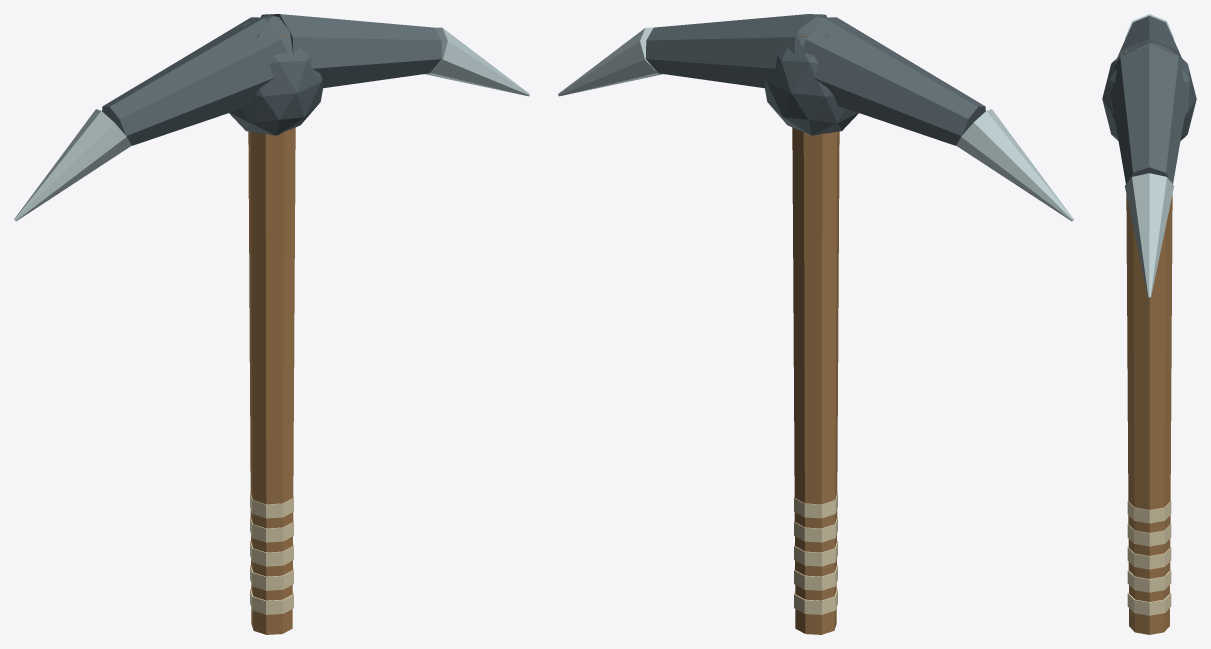
The model's file is resource_pickaxe.glb.
The picture shows the model from 3 angles, left to right: view 1: azimuth 30°, elevation 25°; view 2: azimuth 150°, elevation 25°; view 3: azimuth 270°, elevation 25°; orthographic projection. The views are drawn at different scales.
Visible parts, largest first — view 1: Ash handle, Forged pick, Forged pick.001, Iron socket, Polished pick tip, Polished pick tip.001; view 2: Ash handle, Forged pick, Forged pick.001, Iron socket, Polished pick tip, Polished pick tip.001; view 3: Ash handle, Forged pick.001, Polished pick tip.001, Iron socket, Forged pick, Grip cord, Grip cord.002, Grip cord.001, Grip cord.003, Grip cord.004.
Part boxes in pixels (x1=…): Ash handle: x1=248, y1=35, x2=295, y2=634; Forged pick: x1=102, y1=17, x2=287, y2=145; Forged pick.001: x1=261, y1=14, x2=442, y2=88; Iron socket: x1=229, y1=14, x2=322, y2=135; Polished pick tip: x1=14, y1=109, x2=131, y2=221; Polished pick tip.001: x1=424, y1=27, x2=529, y2=96; Ash handle: x1=792, y1=35, x2=839, y2=634; Forged pick: x1=800, y1=17, x2=985, y2=145; Forged pick.001: x1=645, y1=14, x2=826, y2=88; Iron socket: x1=765, y1=14, x2=858, y2=135; Polished pick tip: x1=956, y1=109, x2=1073, y2=221; Polished pick tip.001: x1=558, y1=27, x2=663, y2=96; Ash handle: x1=1125, y1=51, x2=1173, y2=634; Forged pick.001: x1=1110, y1=46, x2=1188, y2=183; Polished pick tip.001: x1=1125, y1=173, x2=1173, y2=298; Iron socket: x1=1102, y1=41, x2=1196, y2=140; Forged pick: x1=1114, y1=16, x2=1184, y2=64; Grip cord: x1=1127, y1=592, x2=1171, y2=615; Grip cord.002: x1=1127, y1=546, x2=1171, y2=569; Grip cord.001: x1=1127, y1=570, x2=1171, y2=592; Grip cord.003: x1=1127, y1=524, x2=1171, y2=546; Grip cord.004: x1=1127, y1=501, x2=1171, y2=523.
Bounding box in the file's own units: 0.7822 × 0.8858 × 0.13.
